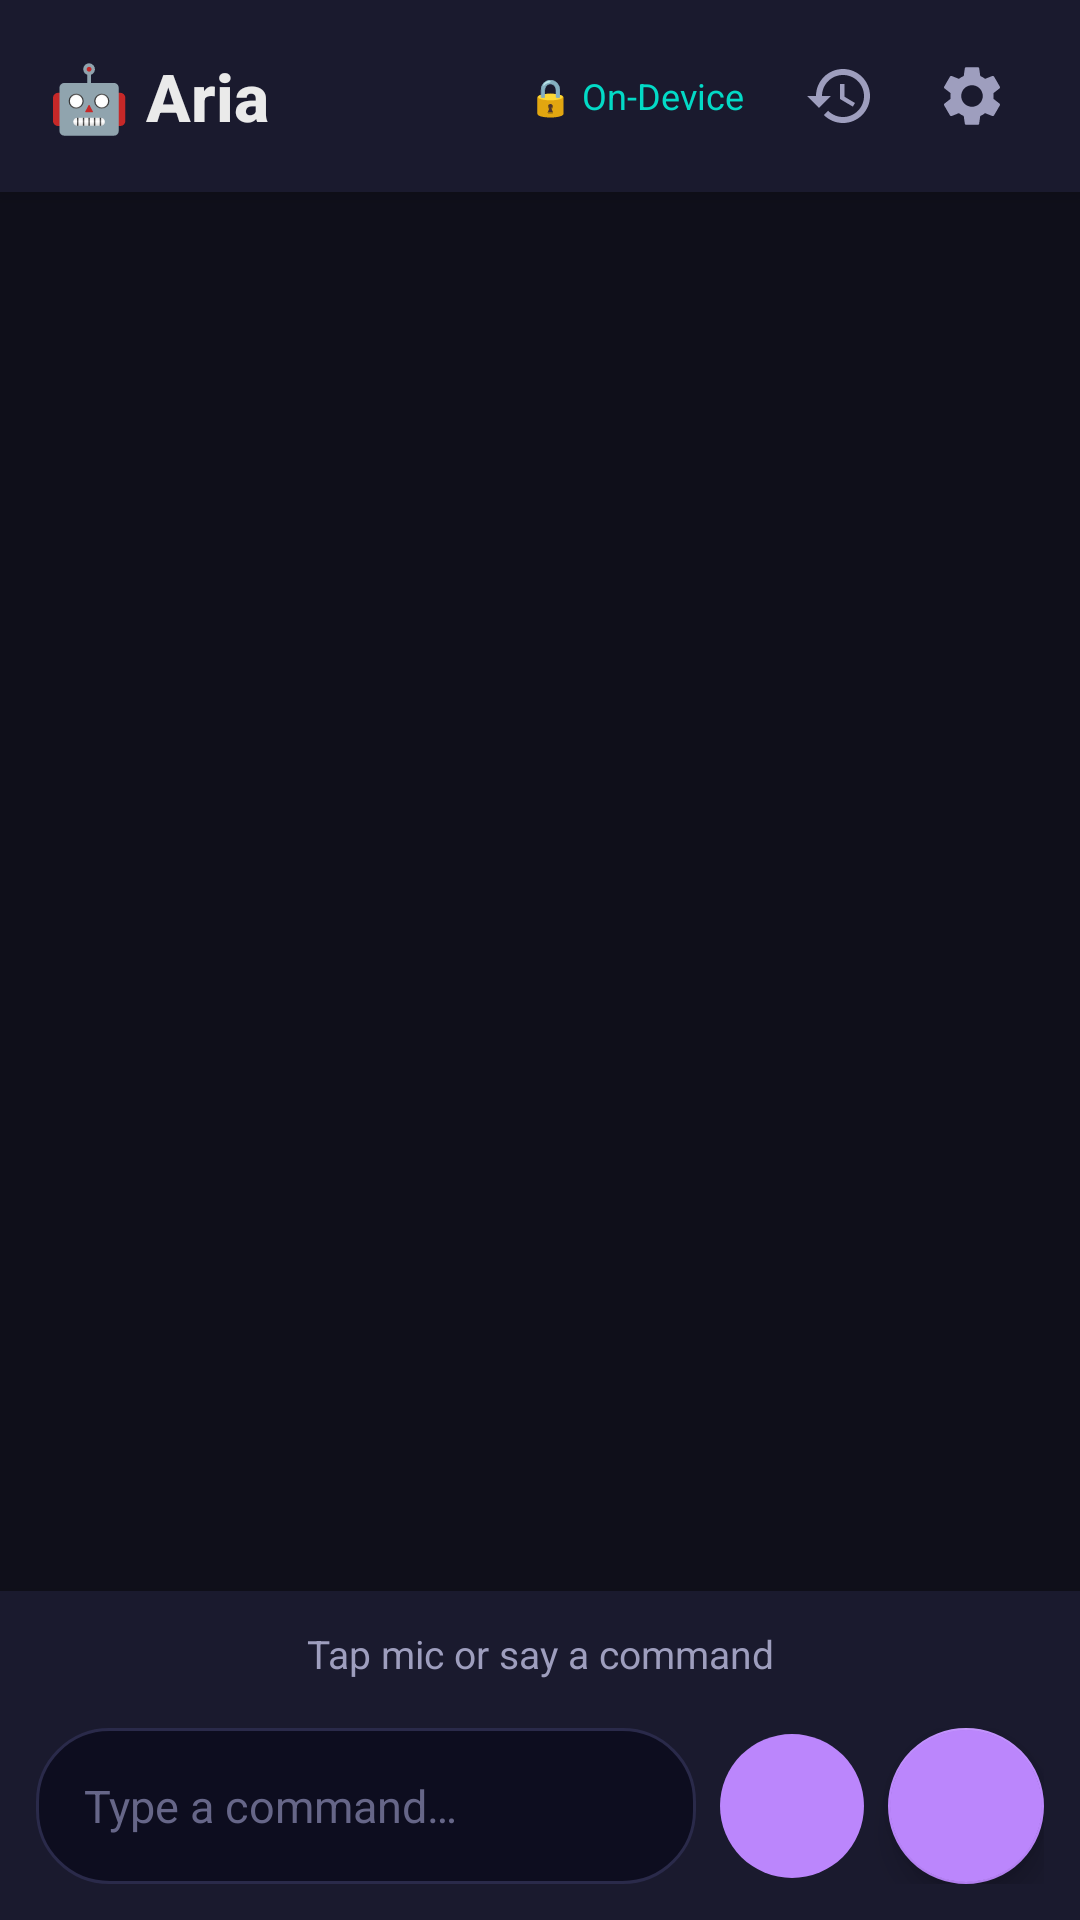

Screen size 1080 × 1920. Icon name, then its center in pixels as [x,y]:
History: [838,96]
Settings: [972,96]
